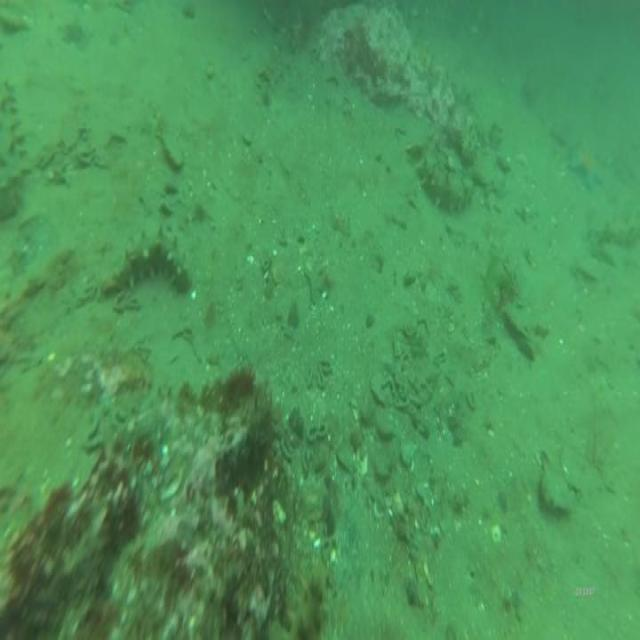holothurian: (103, 221, 193, 296), (412, 150, 477, 215)
